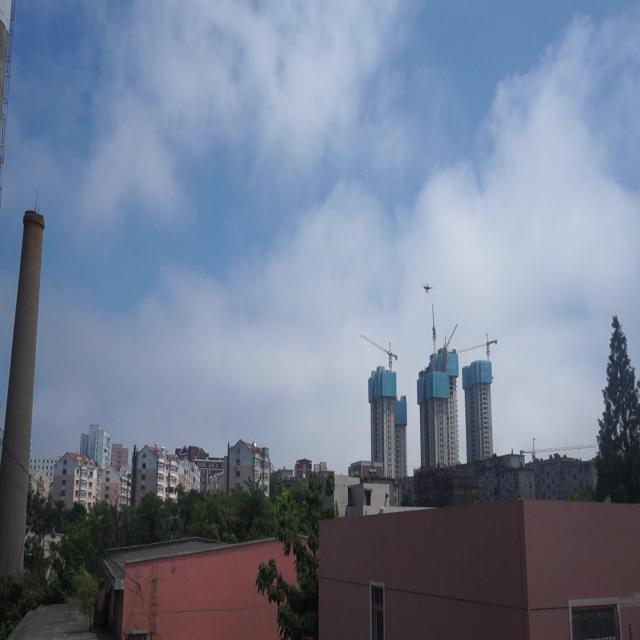UAV: (422, 282, 434, 293)
